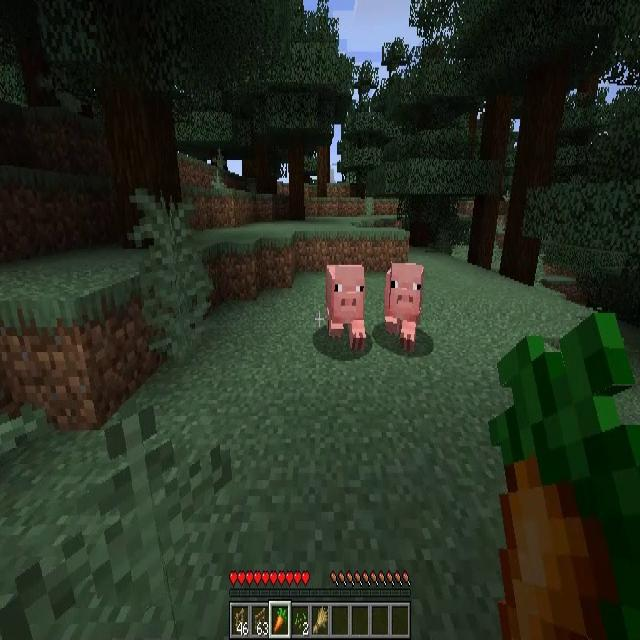pig: (327, 262, 366, 347), (386, 264, 423, 348)
